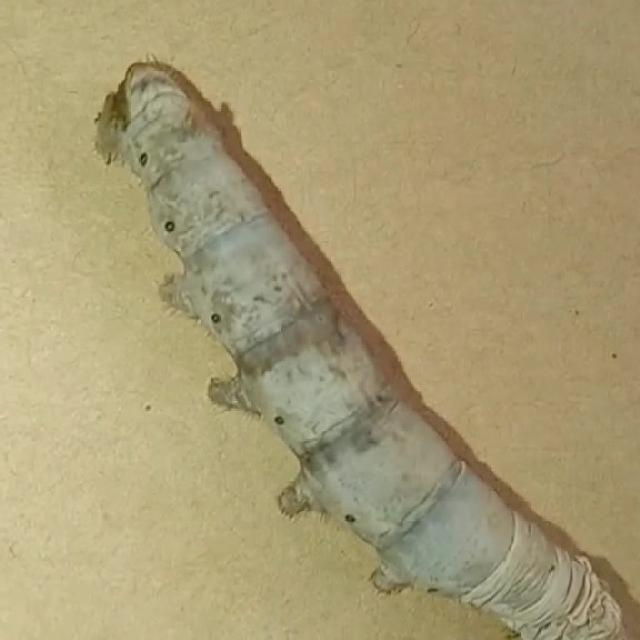Grasserie: (68, 38, 640, 637)
